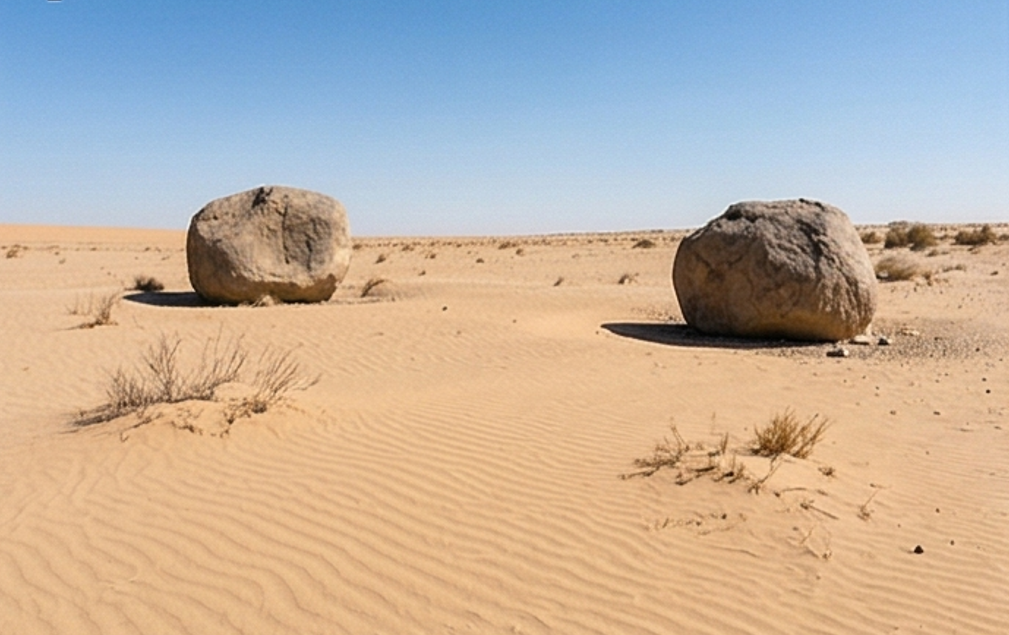rocks: (673, 199, 875, 339), (186, 185, 352, 303)
